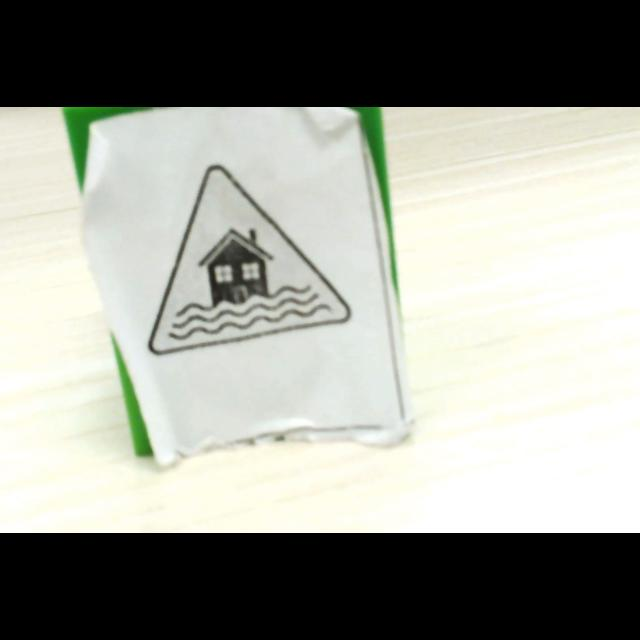Tsunami: (147, 165, 350, 357)
